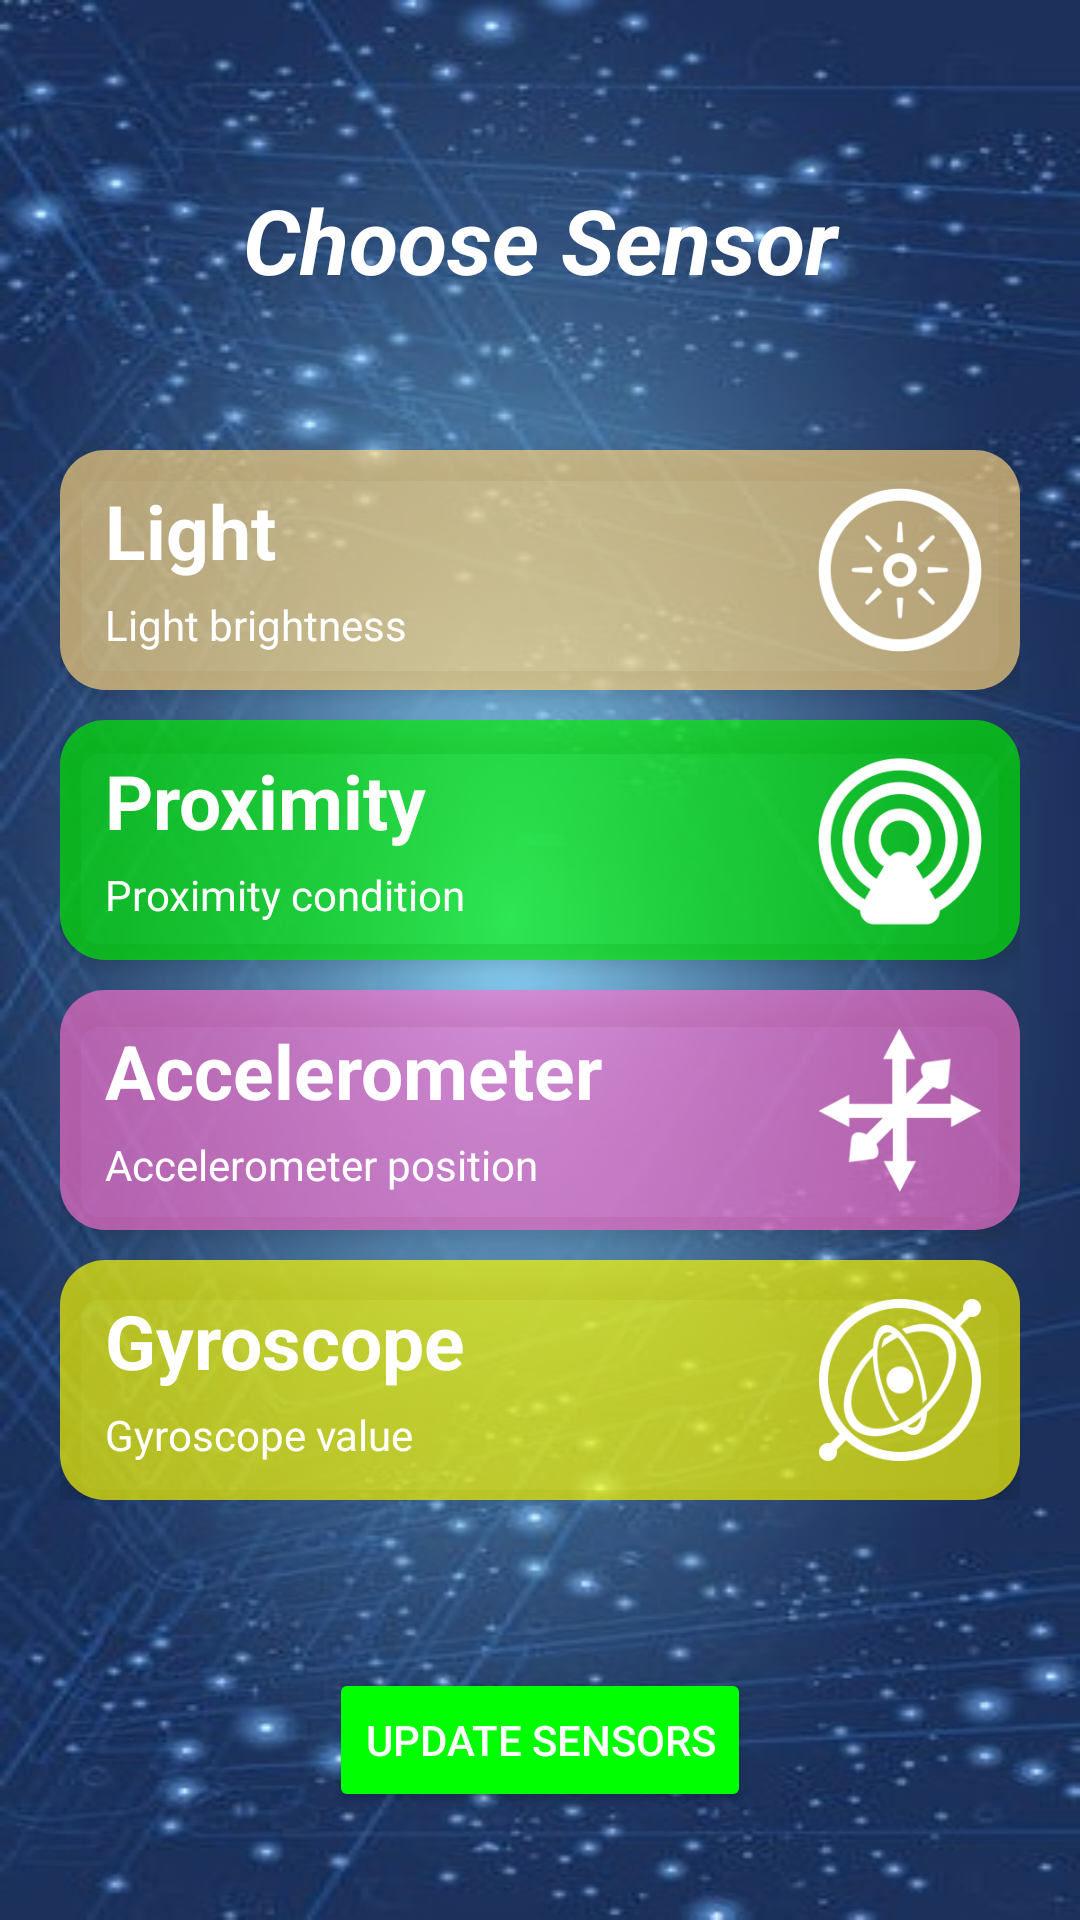

Where icons sit on this 1080x1920 app screen, as bbox=[x1, y1, x2, y2]:
accelerometer: bbox=[819, 1028, 981, 1192]
gyroscope: bbox=[819, 1299, 981, 1461]
proximity: bbox=[818, 758, 982, 925]
